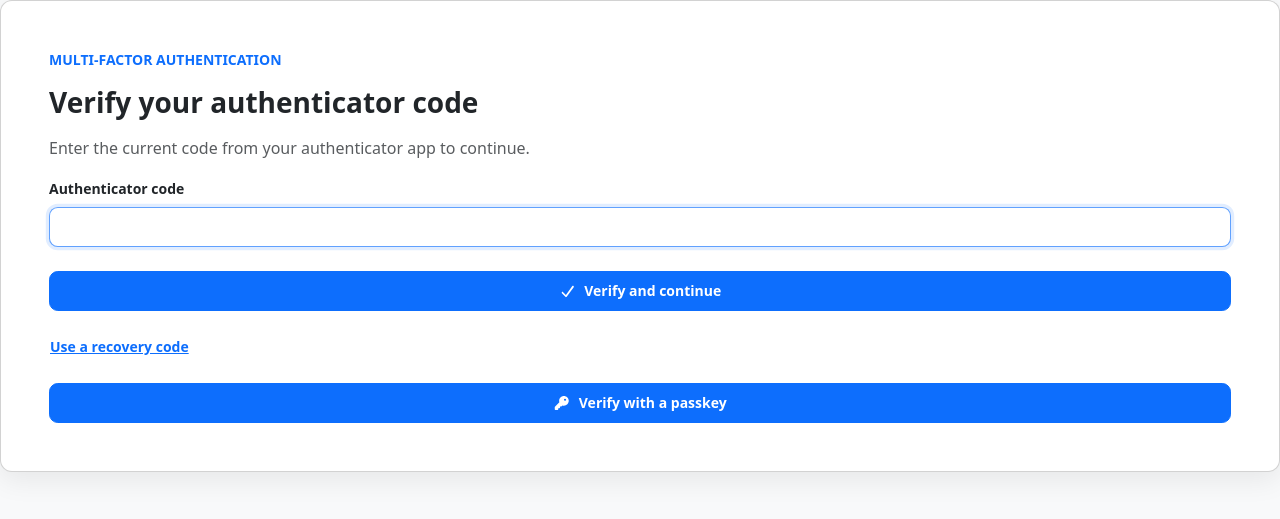
Test case: MFA authentication pages › rejects a malformed login challenge code before sending it
Type "12ab" into the field labelled "Authenticator code".
click(640, 227); type("12ab")  # box [49, 207, 1231, 247]
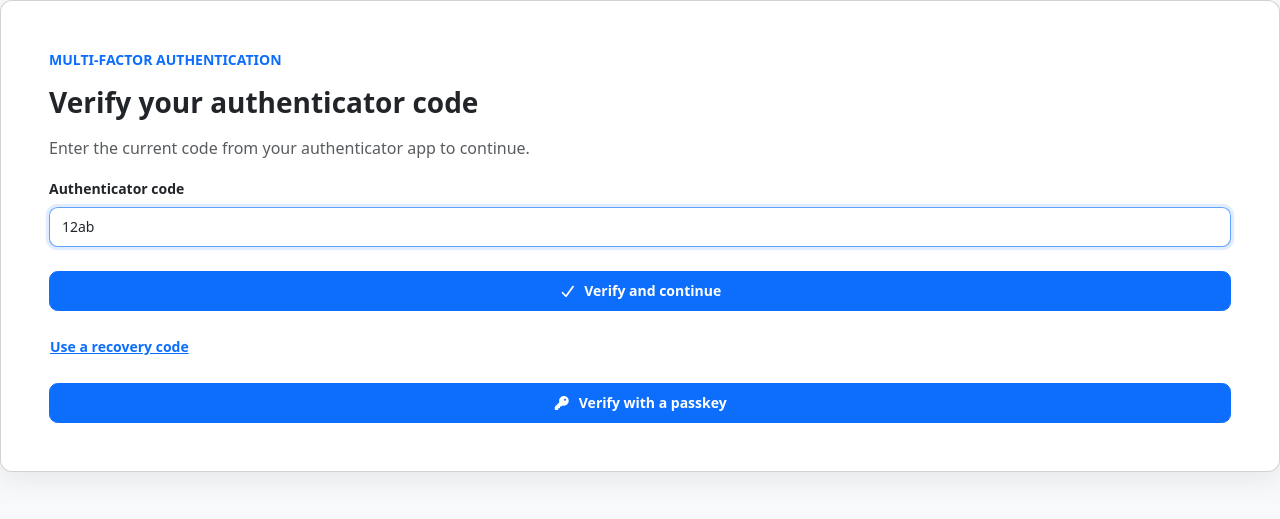
Click the button "Verify and continue".
click(640, 291)  # box [49, 271, 1231, 311]
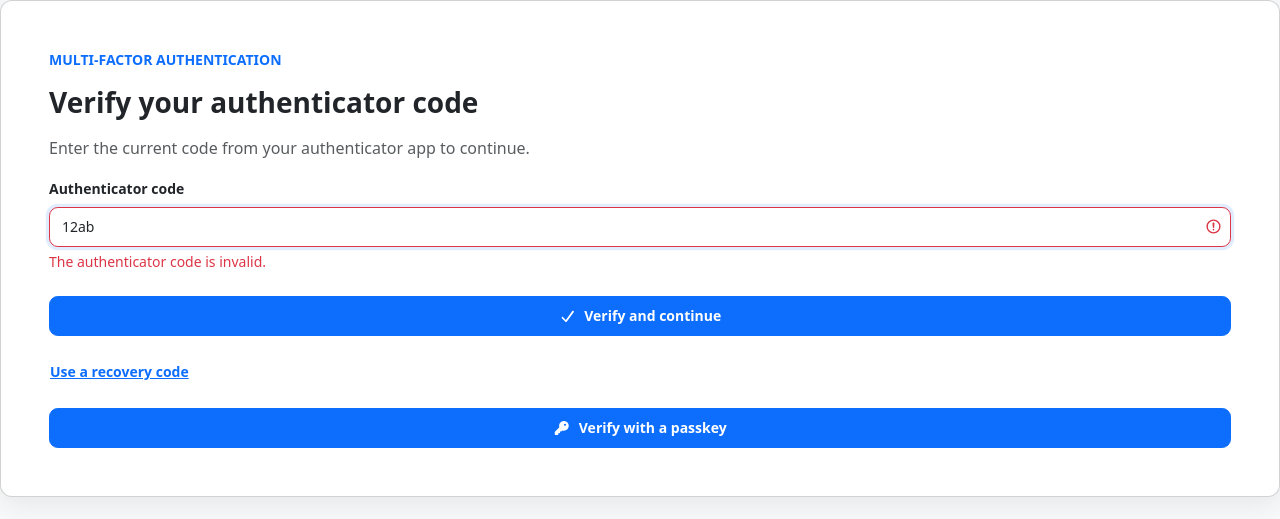
Now the text "The authenticator code is invalid." is shown, box [49, 252, 266, 271]
